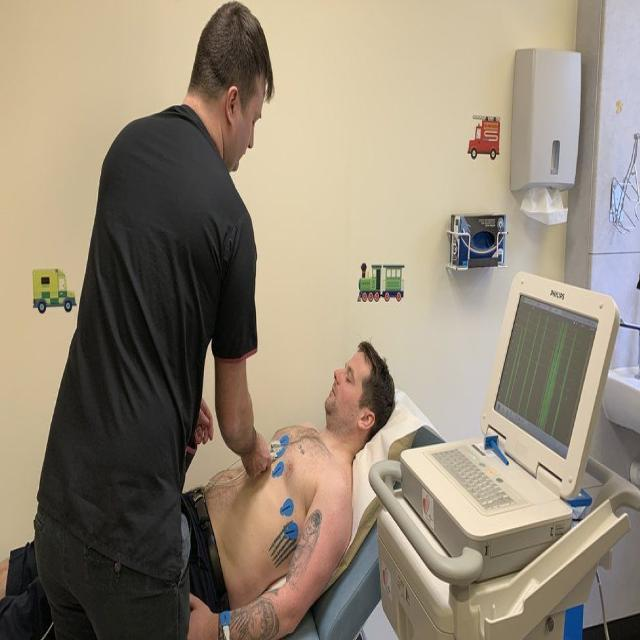Monitor: (374, 274, 635, 640)
